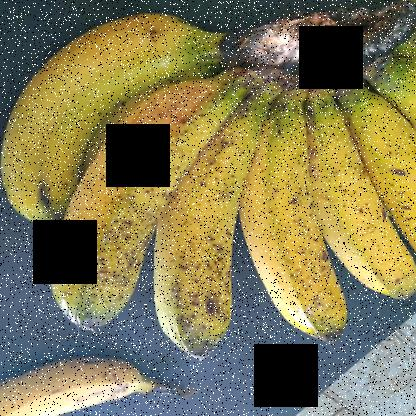freshripe: (2, 3, 201, 224)
ripe: (51, 77, 249, 334), (134, 82, 283, 363), (230, 88, 366, 340), (304, 70, 414, 311), (0, 349, 162, 415)
